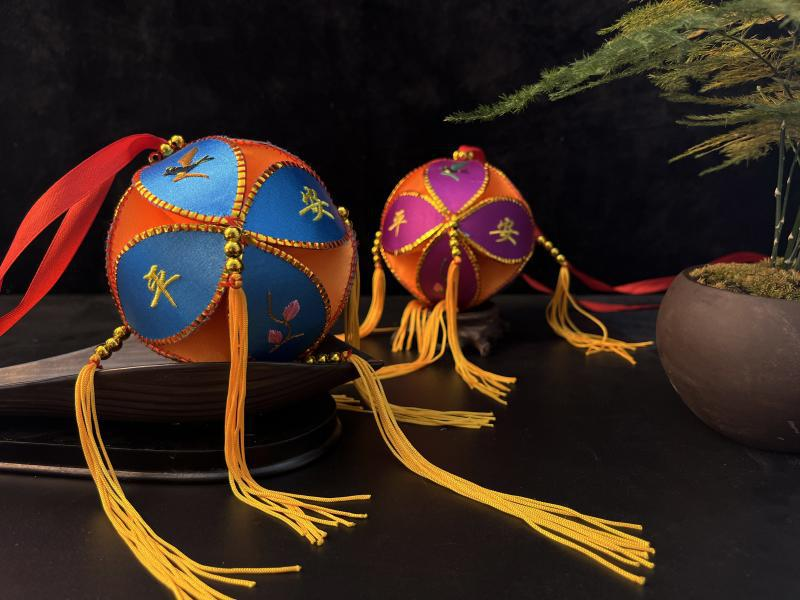xiuqiu: (105, 137, 353, 371), (380, 153, 537, 310)
